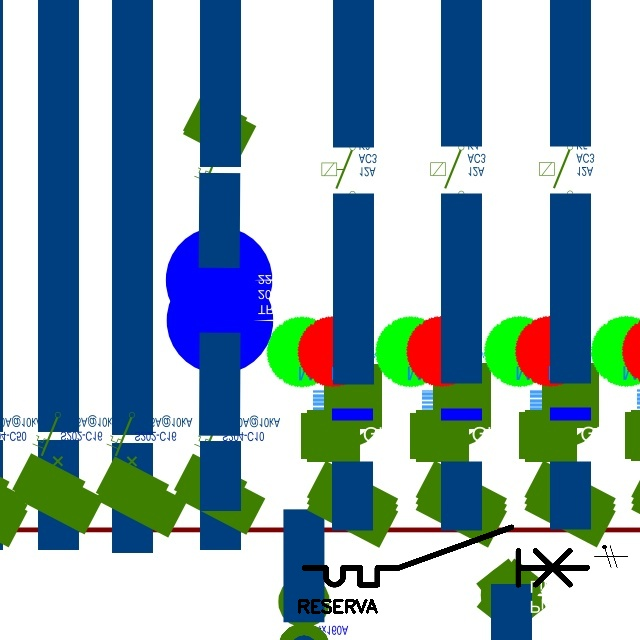interruptor_termomagnetico: (297, 520, 594, 592)
